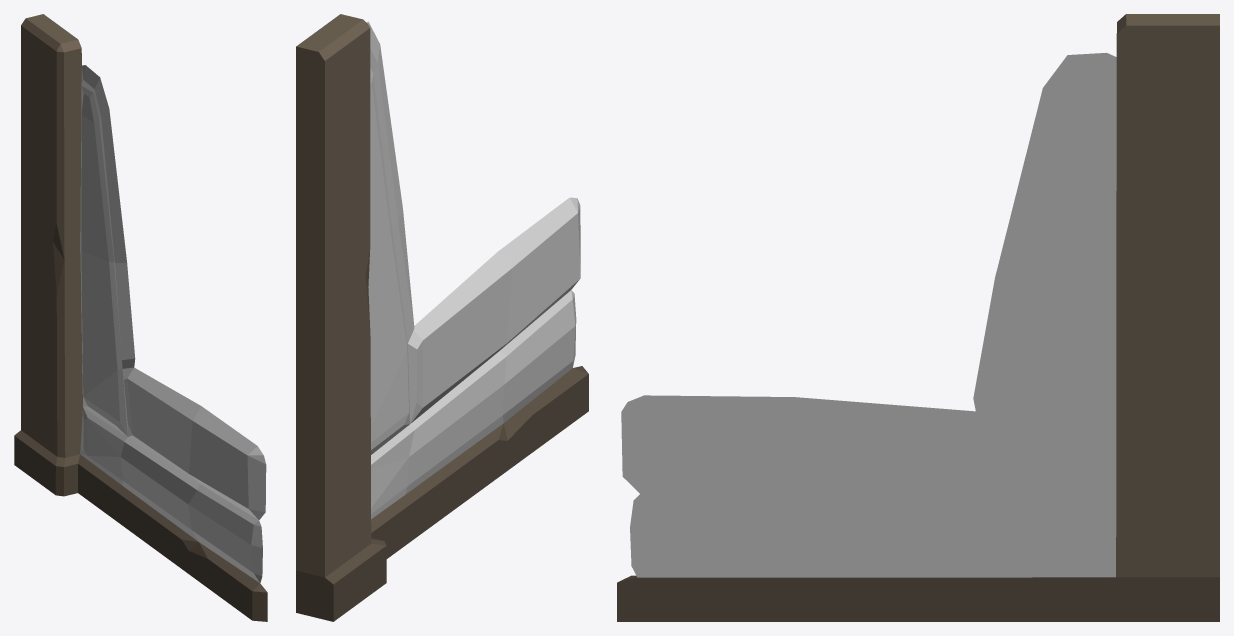
File: SM_Prop_Sofa_01_End_01.fbx
3 views of the same model, side by side, from view 1: azimuth 30°, elevation 25°; view 2: azimuth 150°, elevation 25°; view 3: azimuth 270°, elevation 25° (orthographic). The views are drawn at different scales.
Parts seen in each view (by area): view 1: SM_Prop_Sofa_01_End_01; view 2: SM_Prop_Sofa_01_End_01; view 3: SM_Prop_Sofa_01_End_01.
Boxes of the visible parts, left/top/right/bottom form: SM_Prop_Sofa_01_End_01: left=14, top=14, right=267, bottom=621; SM_Prop_Sofa_01_End_01: left=296, top=14, right=588, bottom=621; SM_Prop_Sofa_01_End_01: left=617, top=14, right=1219, bottom=621.
Bounding box in the file's own units: 7.68 × 111 × 102.
